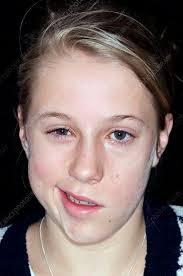strokeEyeMid: (28, 103, 148, 159)
strokeMouthSevere: (47, 174, 113, 222)
